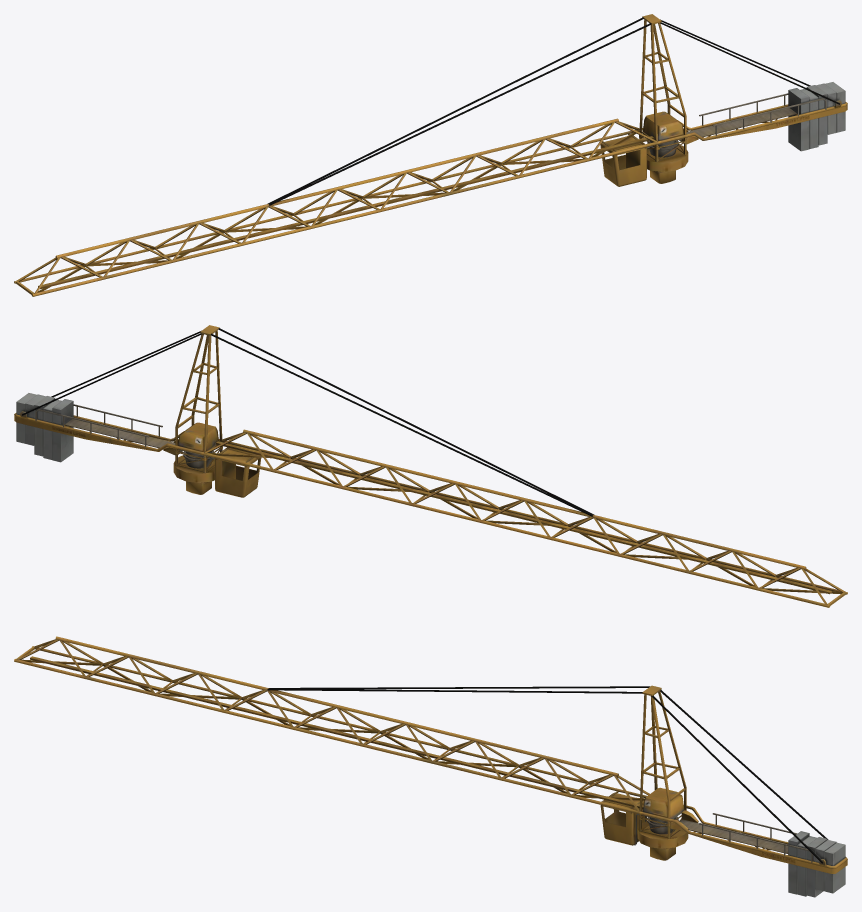
3 renders of one model, top to bottom at view 1: azimuth 30°, elevation 25°; view 2: azimuth 150°, elevation 25°; view 3: azimuth 330°, elevation 25°, orthographic.
Visible parts, largest first — view 1: body0_model0_lod0_mesh0; view 2: body0_model0_lod0_mesh0; view 3: body0_model0_lod0_mesh0.
Boxes of the visible parts, x1,y1,x2,y2 form: body0_model0_lod0_mesh0: (14,14,847,296); body0_model0_lod0_mesh0: (14,325,847,607); body0_model0_lod0_mesh0: (14,636,847,897).
Size of the model in its own units: 3025 by 582 by 163.
Materials: 1 (1 with a texture image).
